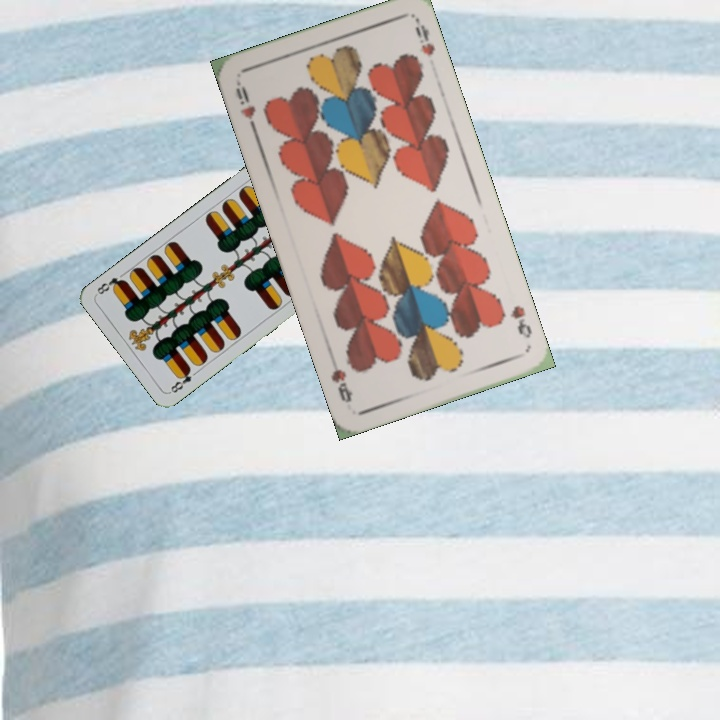E8: (166, 364, 194, 396)
H9: (231, 77, 260, 135), (506, 301, 535, 341)
